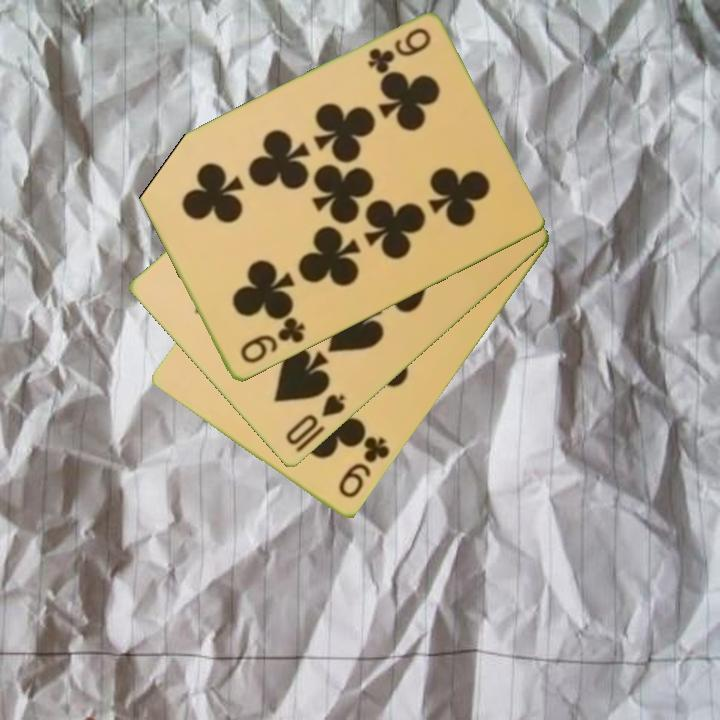10s: (282, 391, 348, 449)
9c: (334, 433, 393, 502), (236, 314, 309, 367), (364, 24, 434, 78)
